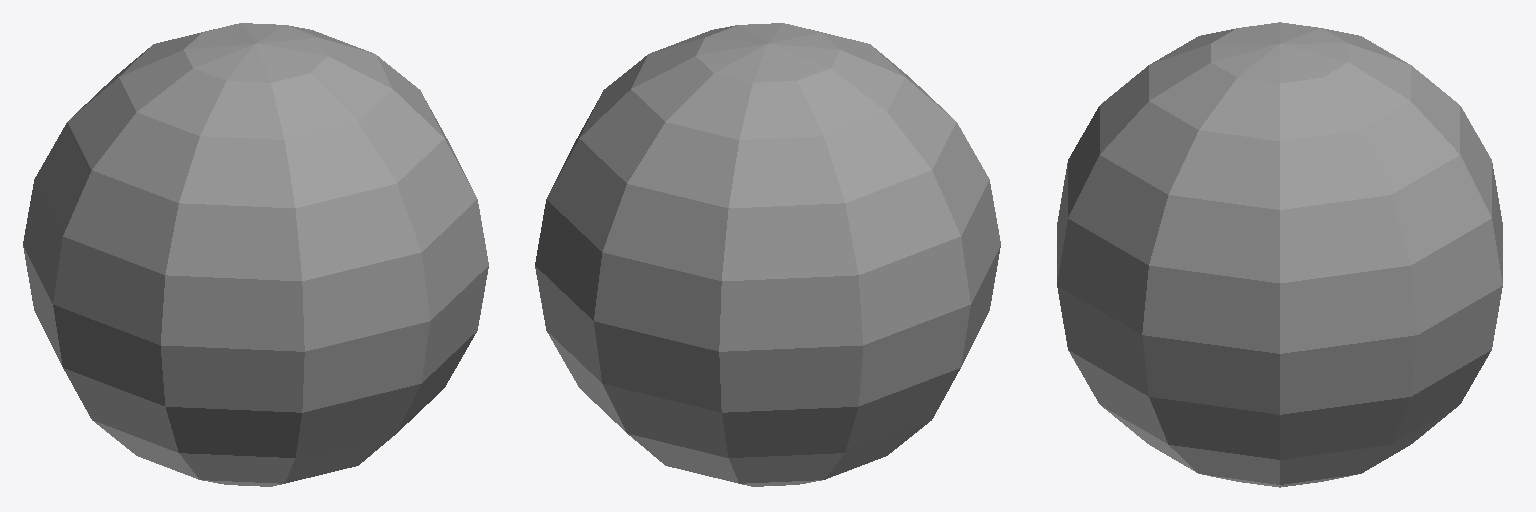
Rendered from spacesphere.obj.
3 views of the same model, side by side, from view 1: azimuth 30°, elevation 25°; view 2: azimuth 150°, elevation 25°; view 3: azimuth 270°, elevation 25° (orthographic).
Parts seen in each view (by area): view 1: Sphere.002; view 2: Sphere.002; view 3: Sphere.002.
Boxes of the visible parts, <box> form: Sphere.002: <box>23,23,488,486</box>; Sphere.002: <box>535,23,1000,486</box>; Sphere.002: <box>1057,22,1502,487</box>.
Bounding box in the file's own units: 200 × 200 × 190.